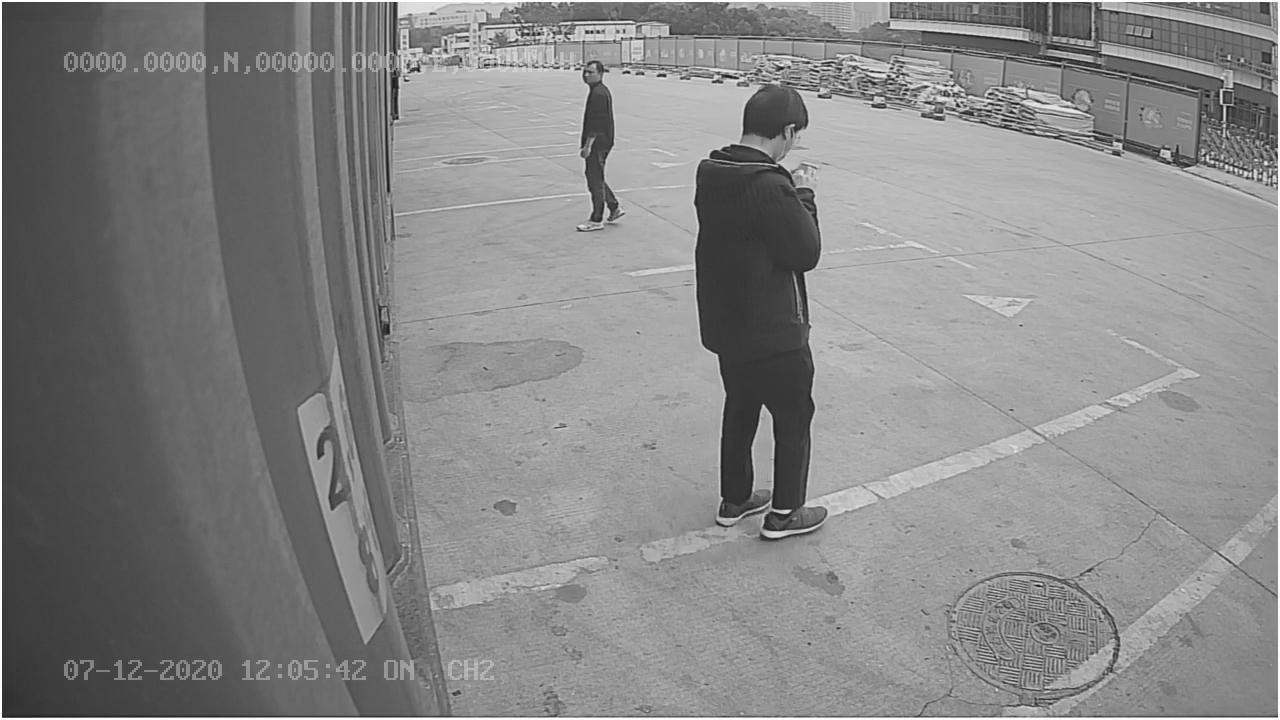person: (694, 82, 832, 540)
